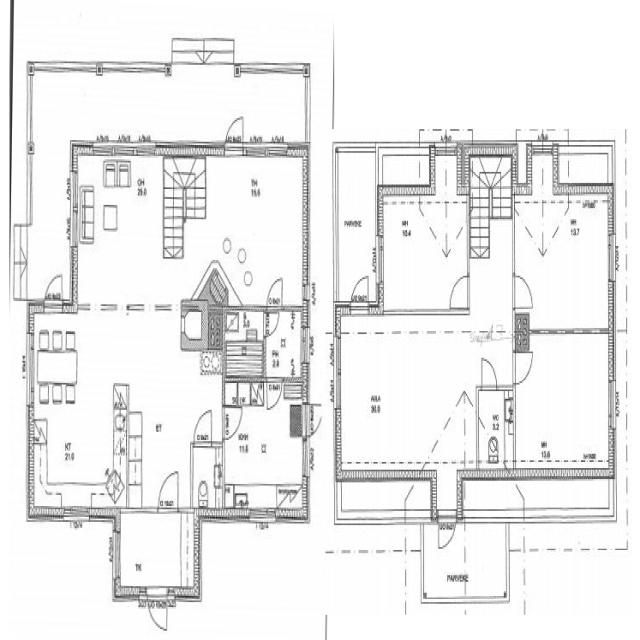door: (264, 309, 307, 380), (156, 467, 180, 513), (510, 270, 536, 312), (447, 270, 472, 312), (146, 589, 169, 633), (223, 111, 246, 154), (349, 271, 372, 311), (42, 269, 66, 307), (437, 510, 458, 552), (264, 273, 286, 311), (512, 348, 534, 385), (192, 407, 214, 444), (478, 354, 499, 392), (222, 404, 243, 441), (509, 477, 528, 516), (266, 377, 284, 413), (305, 403, 323, 437), (263, 309, 280, 340)
window: (533, 322, 608, 348), (246, 138, 292, 163), (23, 69, 37, 149), (23, 328, 35, 409), (332, 335, 344, 415), (605, 372, 617, 431), (61, 503, 92, 525), (302, 75, 312, 142), (110, 527, 122, 581), (247, 505, 277, 526), (88, 140, 122, 158), (68, 166, 78, 225), (375, 232, 385, 288), (606, 232, 616, 286), (300, 437, 311, 479)
zone: (78, 154, 308, 306), (29, 314, 191, 509), (334, 329, 470, 474), (513, 331, 615, 481), (513, 195, 614, 335), (225, 378, 307, 513), (378, 195, 469, 314), (118, 508, 196, 592), (336, 145, 376, 306), (470, 213, 514, 345), (264, 308, 308, 380), (476, 388, 514, 469), (224, 309, 265, 382), (377, 148, 432, 194), (192, 443, 224, 512), (431, 148, 466, 202)
